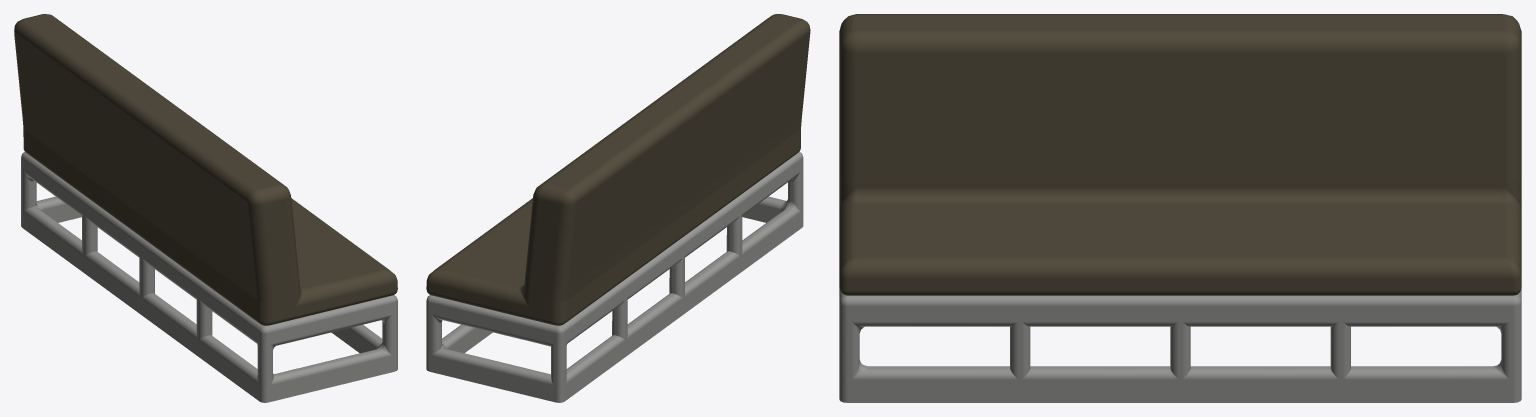
Rendered from SSCChair2.fbx.
The picture shows the model from 3 angles, left to right: view 1: azimuth 30°, elevation 25°; view 2: azimuth 150°, elevation 25°; view 3: azimuth 270°, elevation 25°; orthographic projection. The views are drawn at different scales.
Visible parts, largest first — view 1: SSCChair2_Cushon, SSCChair2_Base; view 2: SSCChair2_Cushon, SSCChair2_Base; view 3: SSCChair2_Cushon, SSCChair2_Base.
Boxes of the visible parts, bbox=[...] form: SSCChair2_Cushon: bbox=[14, 14, 397, 325]; SSCChair2_Base: bbox=[21, 152, 397, 402]; SSCChair2_Cushon: bbox=[426, 14, 810, 325]; SSCChair2_Base: bbox=[426, 152, 803, 402]; SSCChair2_Cushon: bbox=[839, 14, 1521, 295]; SSCChair2_Base: bbox=[839, 288, 1521, 402].
Size of the model in its own units: 69.49 by 95 by 200.
